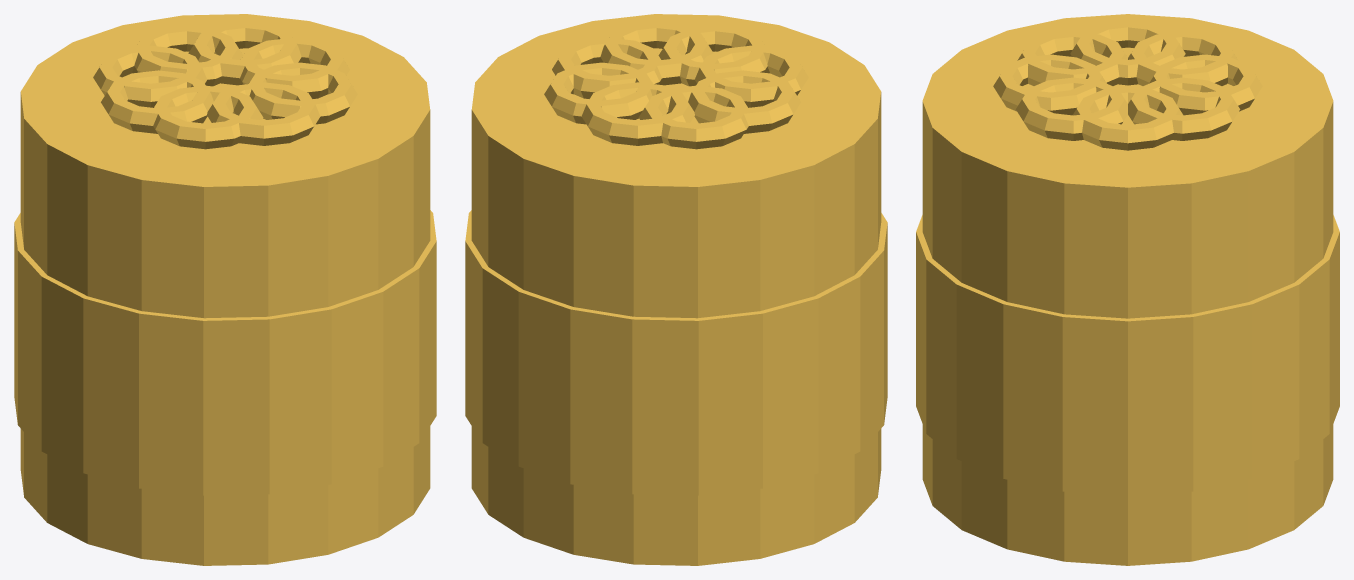
The model's file is Cup Noodle.fbx.
3 views of the same model, side by side, from view 1: azimuth 30°, elevation 25°; view 2: azimuth 150°, elevation 25°; view 3: azimuth 270°, elevation 25° (orthographic).
Parts seen in each view (by area): view 1: cup_noodle; view 2: cup_noodle; view 3: cup_noodle.
Boxes of the visible parts, x1,y1,x2,y2 form: cup_noodle: (14, 14, 436, 565); cup_noodle: (465, 14, 887, 565); cup_noodle: (916, 14, 1339, 565).
Bounding box in the file's own units: 66 × 69.23 × 66.
